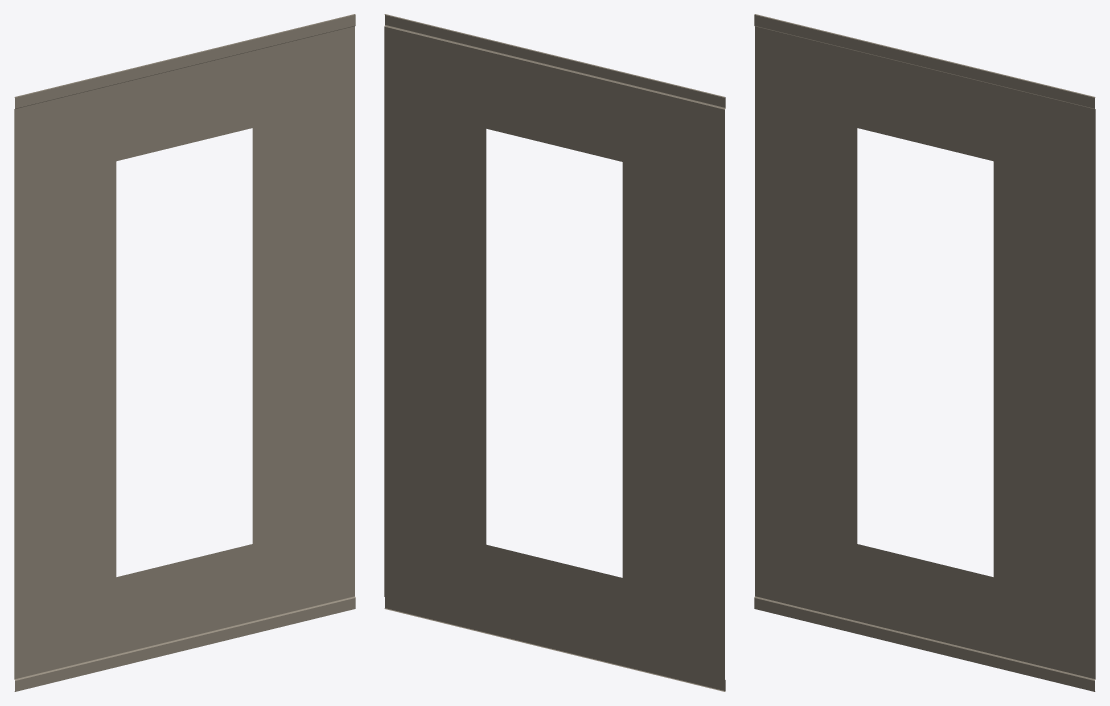
Rendered from Wall_3x5_SingleWindow.fbx.
3 renders of one model, left to right at view 1: azimuth 30°, elevation 25°; view 2: azimuth 150°, elevation 25°; view 3: azimuth 330°, elevation 25°, orthographic.
Visible parts, largest first — view 1: Wall_3x5_SingleWindow; view 2: Wall_3x5_SingleWindow; view 3: Wall_3x5_SingleWindow.
Part boxes in pixels (x1=…): Wall_3x5_SingleWindow: x1=14, y1=14, x2=355, y2=691; Wall_3x5_SingleWindow: x1=384, y1=14, x2=725, y2=691; Wall_3x5_SingleWindow: x1=754, y1=14, x2=1095, y2=691.
Bounding box in the file's own units: 3 × 5 × 0.015.
